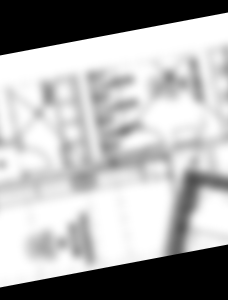door: (18, 142, 54, 177), (113, 80, 139, 106), (117, 103, 144, 128), (141, 125, 166, 151)
wall: (137, 159, 213, 259), (183, 146, 228, 219)
